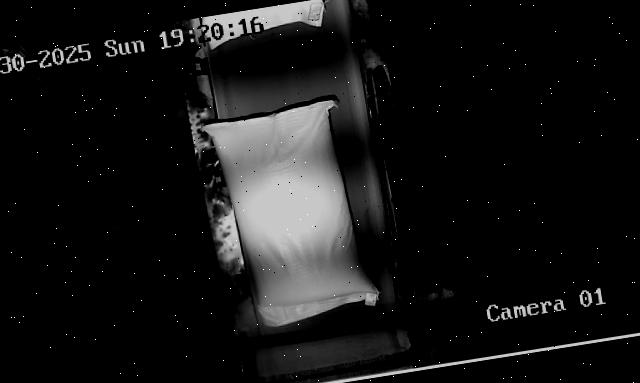bag: (202, 97, 384, 333), (199, 0, 326, 48)
